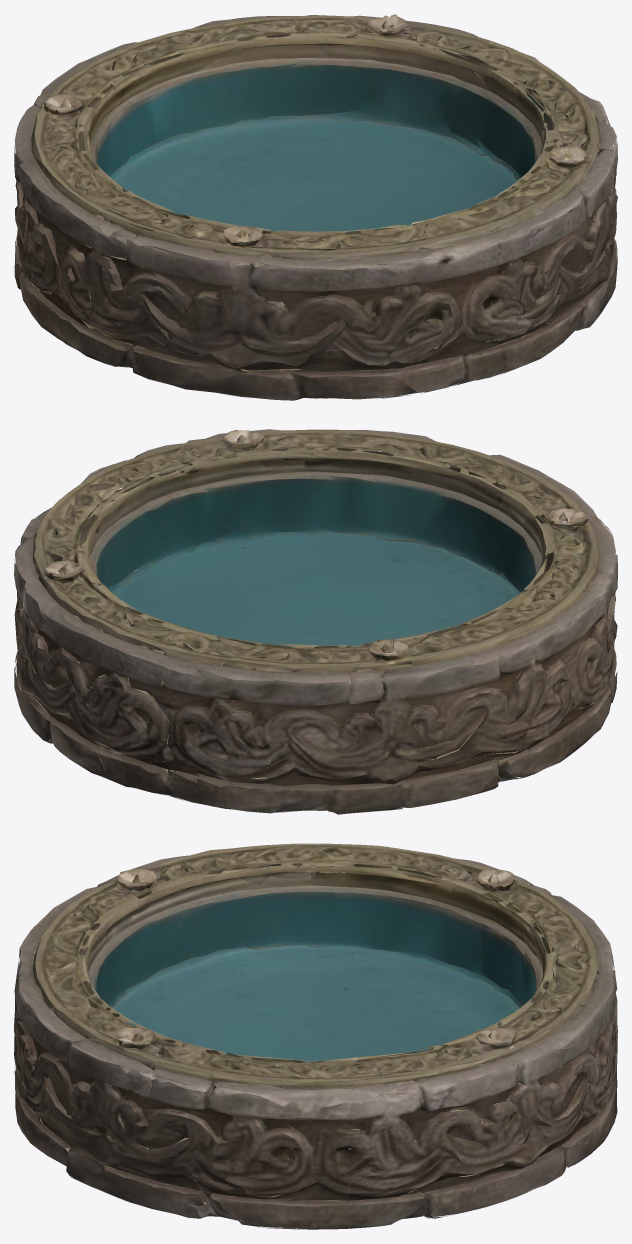
File: duck-pond.glb
3 views of the same model, one above another, from view 1: azimuth 30°, elevation 25°; view 2: azimuth 150°, elevation 25°; view 3: azimuth 270°, elevation 25° (orthographic).
Parts seen in each view (by area): view 1: geometry_0; view 2: geometry_0; view 3: geometry_0.
Boxes of the visible parts, bbox=[...] form: geometry_0: bbox=[14, 14, 617, 400]; geometry_0: bbox=[14, 429, 617, 814]; geometry_0: bbox=[14, 843, 617, 1229].
Size of the model in its own units: 0.3199 by 0.089 by 0.3198.
1 material, 1 textured.
